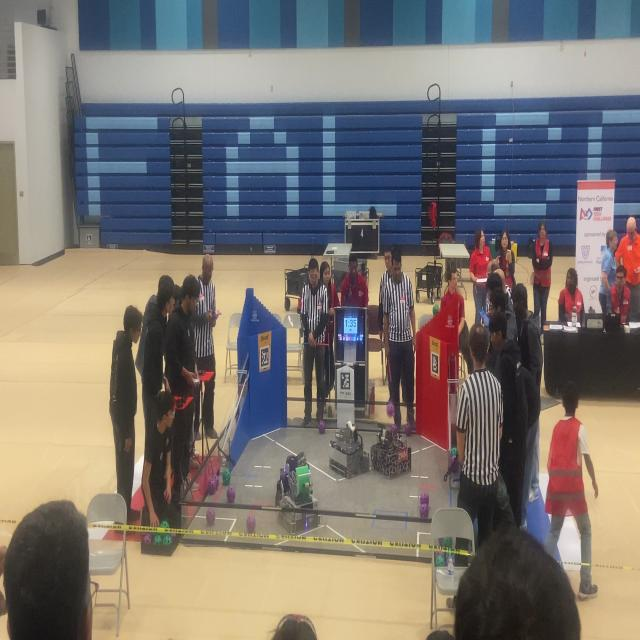artifact_green: (450, 456, 459, 474), (435, 553, 445, 566), (442, 537, 452, 549), (223, 470, 231, 485), (391, 424, 398, 437), (163, 535, 172, 545), (154, 534, 162, 545), (446, 554, 454, 565), (433, 303, 440, 315), (160, 521, 169, 528), (451, 447, 457, 456), (170, 534, 175, 542)
artifact_purple: (208, 474, 220, 494), (206, 508, 215, 526), (450, 456, 459, 473), (247, 516, 255, 533), (227, 486, 235, 502), (420, 504, 429, 518), (387, 401, 394, 416), (420, 493, 429, 504), (318, 420, 325, 434), (391, 423, 398, 437), (405, 423, 412, 436), (143, 534, 152, 544), (284, 464, 289, 474), (170, 534, 175, 542)
